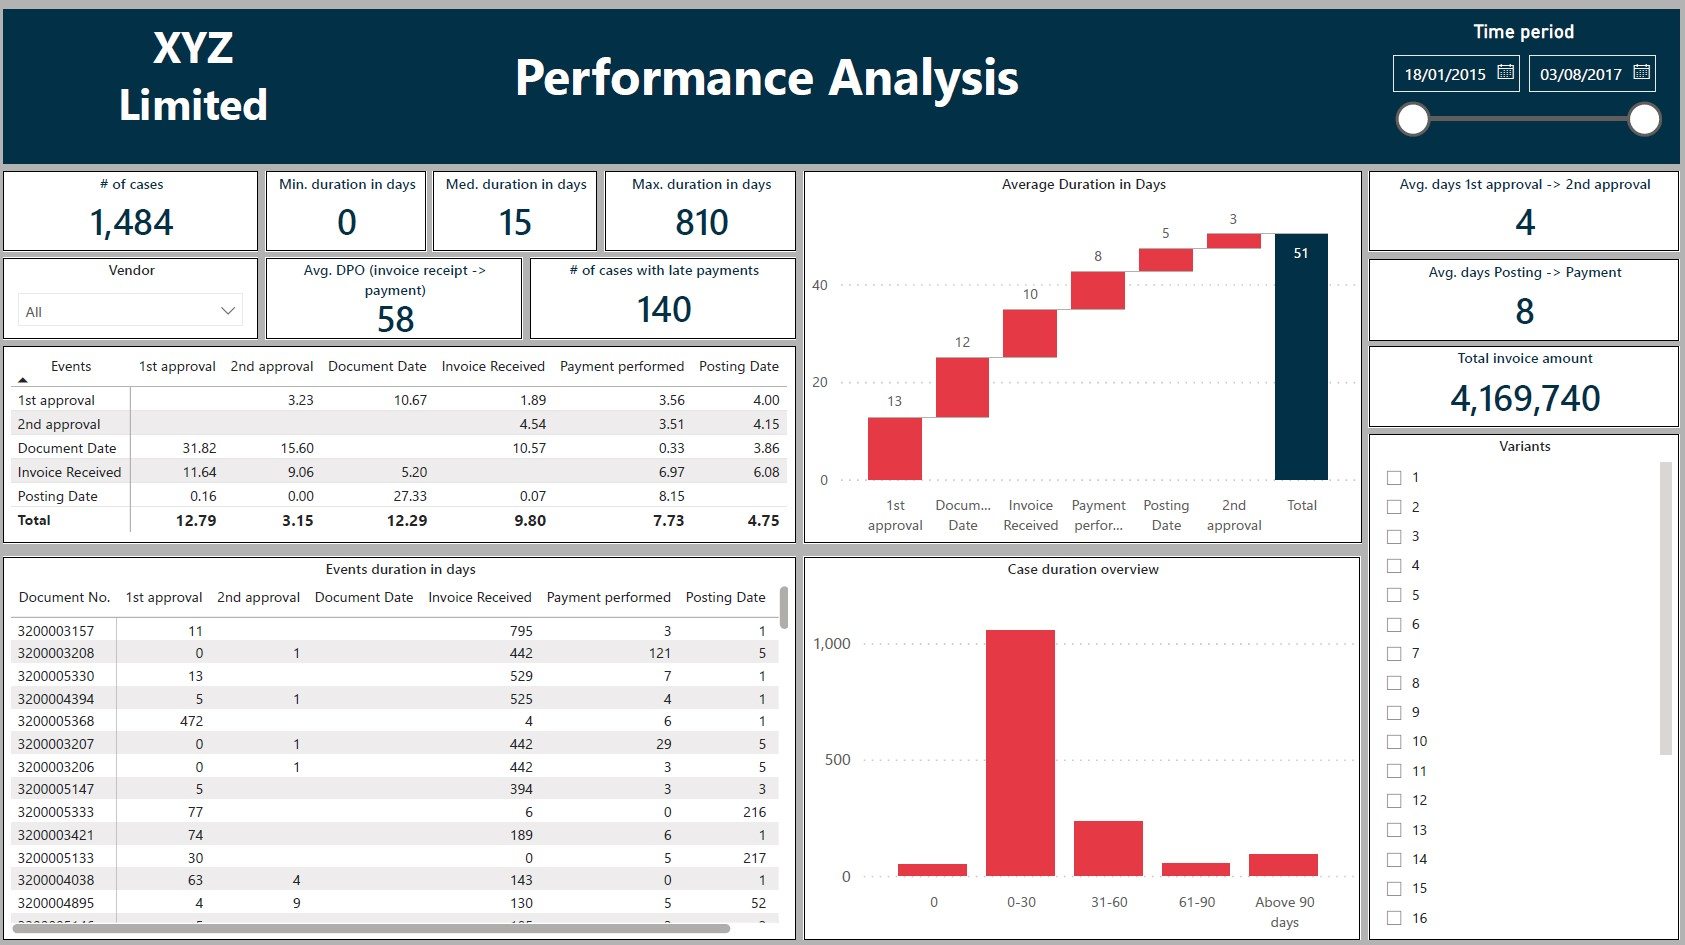

The page's visual inventory and layout, read from the dashboard file:
{"tool":"powerbi","page":{"name":"Timing Overview","canvas":[1280,720],"ordinal":3},"visuals":[{"type":"shape","box":[11.7,10.7,1256.7,115.7],"z":0},{"type":"textbox","box":[20.4,10.7,268.2,107.9],"z":1000},{"type":"textbox","box":[385.3,30.2,397.4,67.2],"z":2000},{"type":"card","title":"Min. duration in days","fields":{"Values":["Min(Distinct_log.Duration in days)"]},"box":[209,132.2,119.5,60.3],"z":3000},{"type":"slicer","title":"Time period","fields":{"Values":["P2P_Final.Date"]},"box":[1040.4,19,222.4,91.4],"z":4000},{"type":"clusteredColumnChart","title":"Case duration overview","fields":{"Y":["CountNonNull(Distinct_log.Document No.)"],"Category":["Distinct_log.Nested duration"]},"box":[612.3,420.8,416.9,286.7],"z":5000},{"type":"slicer","title":"Vendor","fields":{"Values":["Distinct_log.Account"]},"box":[12.1,197.4,191.4,60.3],"z":6000},{"type":"pivotTable","title":"Events duration in days","fields":{"Rows":["Process_details.Document No."],"Columns":["Process_details.Events_2"],"Values":["Sum(Process_details.Duration in Days)"]},"box":[11.7,420.8,594.8,286.7],"z":7000},{"type":"card","title":"Med. duration in days","fields":{"Values":["Median(Distinct_log.Duration in days)"]},"box":[334.3,132.2,122.5,60.3],"z":8000},{"type":"card","title":"Max. duration in days","fields":{"Values":["Max(Distinct_log.Duration in days)"]},"box":[462.6,132.2,143.8,60.3],"z":9000},{"type":"card","title":"# of cases","fields":{"Values":["CountNonNull(Distinct_log.Document No.)"]},"box":[12.1,131.9,191.4,60.3],"z":10000},{"type":"pivotTable","fields":{"Rows":["Process_details.Events"],"Columns":["Process_details.Events_2"],"Values":["Avg(Process_details.Duration in Days)"]},"box":[11.7,263.4,594.8,147.7],"z":11000},{"type":"waterfallChart","title":"Average Duration in Days","fields":{"Category":["Process_details.Events_2"],"Y":["Avg(Process_details.Duration in Days)"]},"box":[612.3,132.2,417.9,278.9],"z":12000},{"type":"slicer","title":"Variants","fields":{"Values":["Distinct_log.Variants"]},"box":[1035.1,329.5,233.3,378.1],"z":13000},{"type":"card","title":"Avg. days 1st approval -> 2nd approval","fields":{"Values":["Avg(Event_duration.1st_2nd_App)"]},"box":[1035.1,132.2,233.3,60.3],"z":14000},{"type":"card","title":"# of cases with late payments","fields":{"Values":["CountNonNull(Event_duration.Inv_Rec_Paymt)"]},"box":[407.2,197.3,199.2,60.3],"z":15000},{"type":"card","title":"Avg. DPO (invoice receipt -> payment)","fields":{"Values":["Avg(Event_duration.Inv_Rec_Paymt)"]},"box":[209,197.3,192.4,60.3],"z":16000},{"type":"card","title":"Total invoice amount","fields":{"Values":["Sum(Distinct_log.Gross AMount Pos)"]},"box":[1035.1,263.4,233.3,60.3],"z":17000},{"type":"card","title":"Avg. days Posting -> Payment","fields":{"Values":["Avg(Event_duration.Post_Paymt)"]},"box":[1035.1,198.3,233.3,60.3],"z":18000}]}

Visuals, with their boxes in screenshot pixels (x1, y1, x2, y2), scaled from the page's 1280x720 canvas onto the 1685x945 screenshot:
shape: box(15, 14, 1670, 166)
textbox: box(27, 14, 380, 156)
textbox: box(507, 40, 1030, 128)
"Min. duration in days" card: box(275, 174, 432, 253)
"Time period" slicer: box(1370, 25, 1662, 145)
"Case duration overview" clusteredColumnChart: box(806, 552, 1355, 929)
"Vendor" slicer: box(16, 259, 268, 338)
"Events duration in days" pivotTable: box(15, 552, 798, 929)
"Med. duration in days" card: box(440, 174, 601, 253)
"Max. duration in days" card: box(609, 174, 798, 253)
"# of cases" card: box(16, 173, 268, 252)
pivotTable - Process_details.Events x Process_details.Events_2: box(15, 346, 798, 540)
"Average Duration in Days" waterfallChart: box(806, 174, 1356, 540)
"Variants" slicer: box(1363, 432, 1670, 929)
"Avg. days 1st approval -> 2nd approval" card: box(1363, 174, 1670, 253)
"# of cases with late payments" card: box(536, 259, 798, 338)
"Avg. DPO (invoice receipt -> payment)" card: box(275, 259, 528, 338)
"Total invoice amount" card: box(1363, 346, 1670, 425)
"Avg. days Posting -> Payment" card: box(1363, 260, 1670, 339)
